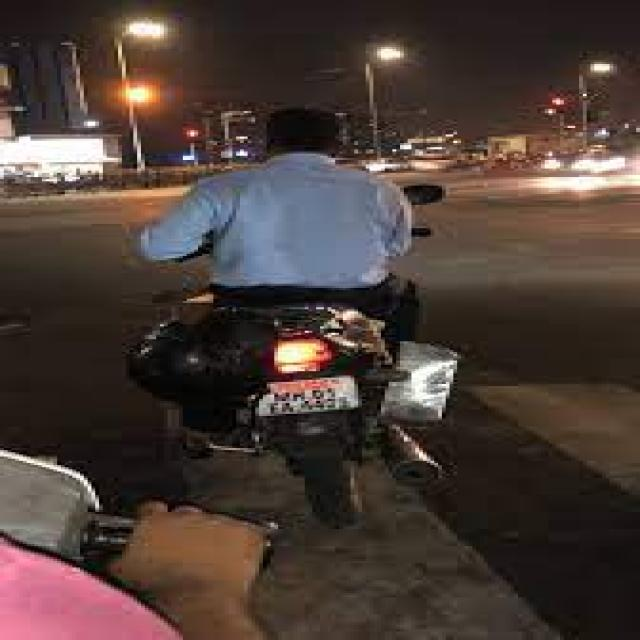Not Wearing Helmet: (118, 92, 372, 204)
